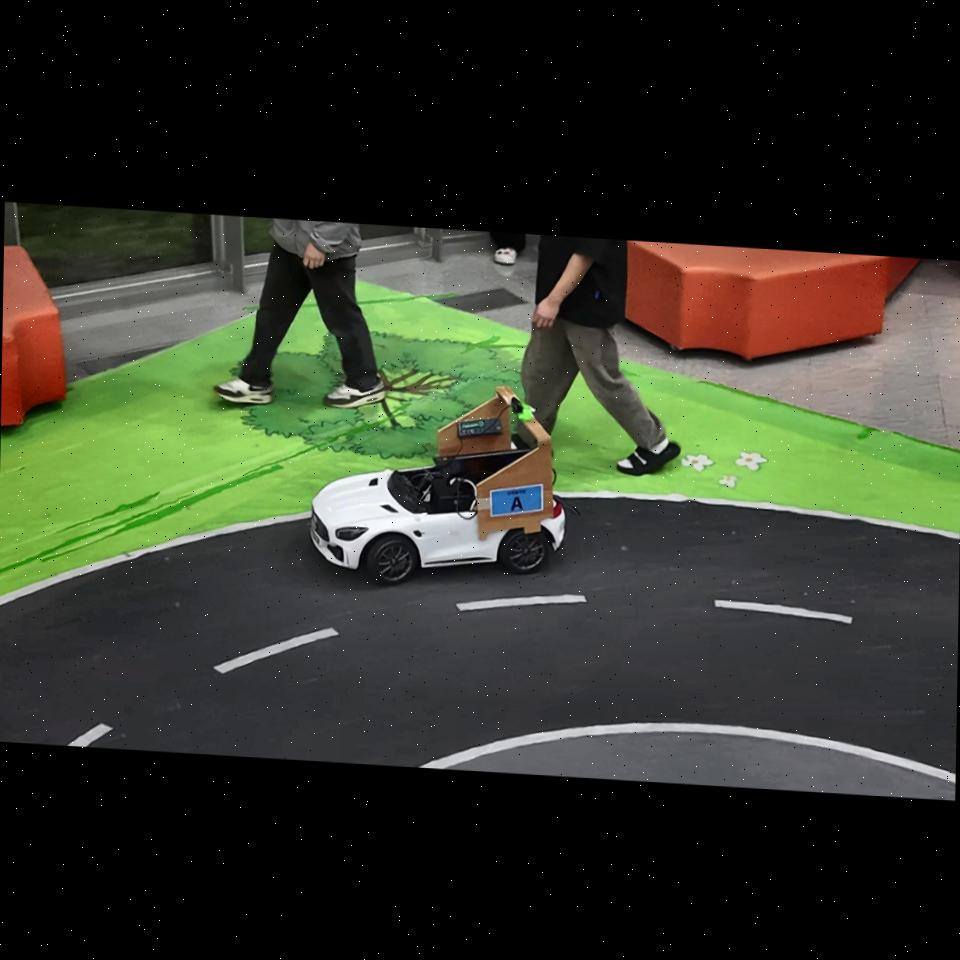broken_line: (214, 628, 340, 673), (715, 600, 852, 624), (455, 594, 587, 611), (68, 723, 113, 746)
